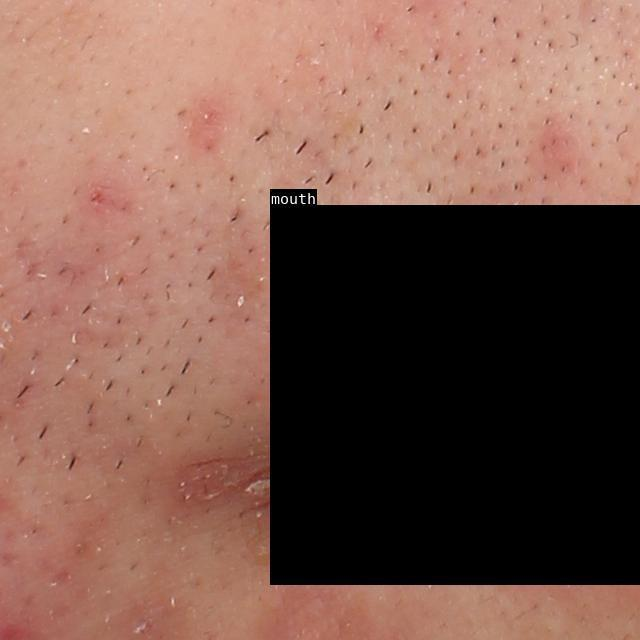papule: (72, 175, 120, 210)
